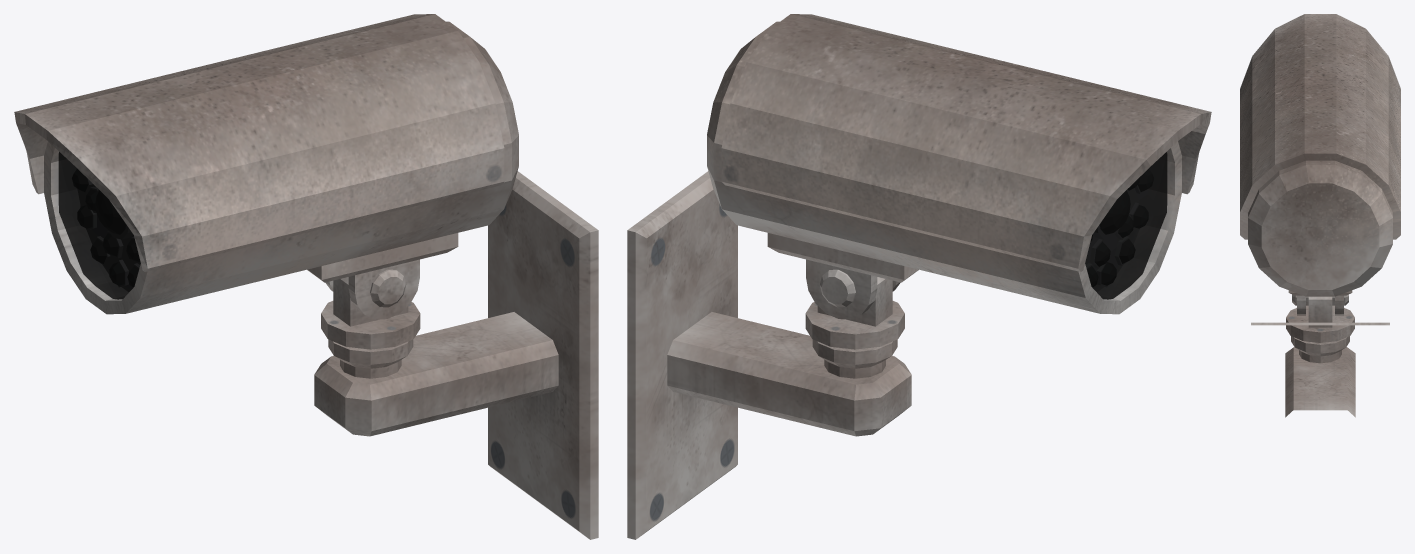
The model's file is camara_seguridad_normalizada.glb.
3 renders of one model, left to right at view 1: azimuth 30°, elevation 25°; view 2: azimuth 150°, elevation 25°; view 3: azimuth 270°, elevation 25°, orthographic. The views are drawn at different scales.
Visible parts, largest first — view 1: world; view 2: world; view 3: world.
Part boxes in pixels (x1=…): world: x1=14, y1=14, x2=598, y2=539; world: x1=627, y1=14, x2=1211, y2=539; world: x1=1240, y1=14, x2=1400, y2=417.
Bounding box in the file's own units: 5.95 × 5.59 × 2.32.
2 materials, 1 textured.
